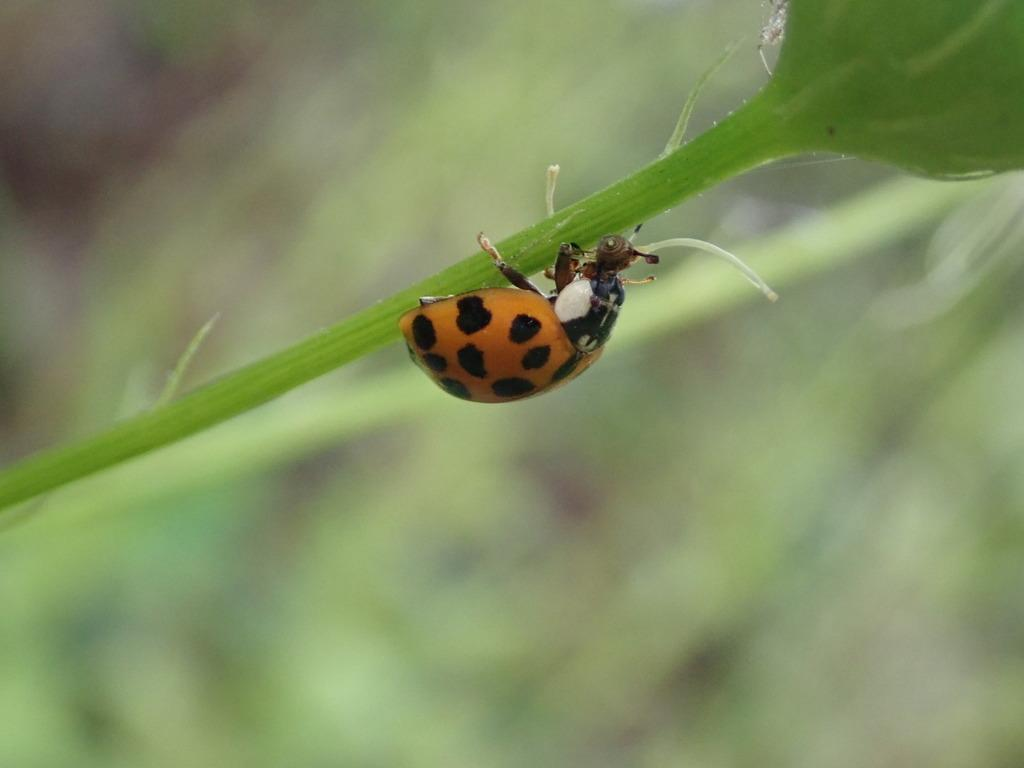ladybug: (397, 221, 665, 407)
